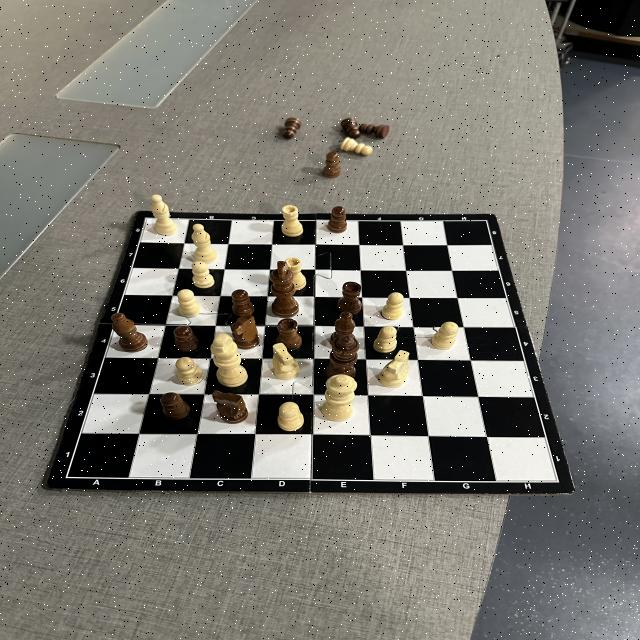Black-Bishop: (110, 313, 148, 352), (330, 312, 356, 346)
Black-King: (270, 260, 300, 318)
Black-Knight: (212, 390, 248, 424), (232, 312, 260, 349)
Black-Pawn: (161, 392, 189, 420), (174, 326, 198, 352), (232, 289, 254, 316), (328, 206, 346, 233), (358, 124, 391, 138), (323, 152, 340, 178), (282, 118, 302, 140), (340, 118, 360, 140)
Black-Queen: (328, 335, 360, 381)
Black-Rook: (275, 318, 302, 351), (338, 282, 362, 314)
White-Bishop: (152, 195, 178, 235), (192, 224, 216, 264)
White-King: (210, 333, 248, 388)
White-Knight: (379, 350, 410, 388), (272, 342, 300, 380)
White-Pawn: (278, 402, 304, 432), (431, 322, 459, 349), (176, 357, 203, 385), (191, 261, 215, 289), (177, 289, 201, 317), (381, 292, 404, 320), (374, 326, 398, 352), (340, 138, 372, 156)
White-Queen: (322, 374, 356, 422)
White-Rook: (286, 256, 306, 290), (283, 204, 303, 237)
